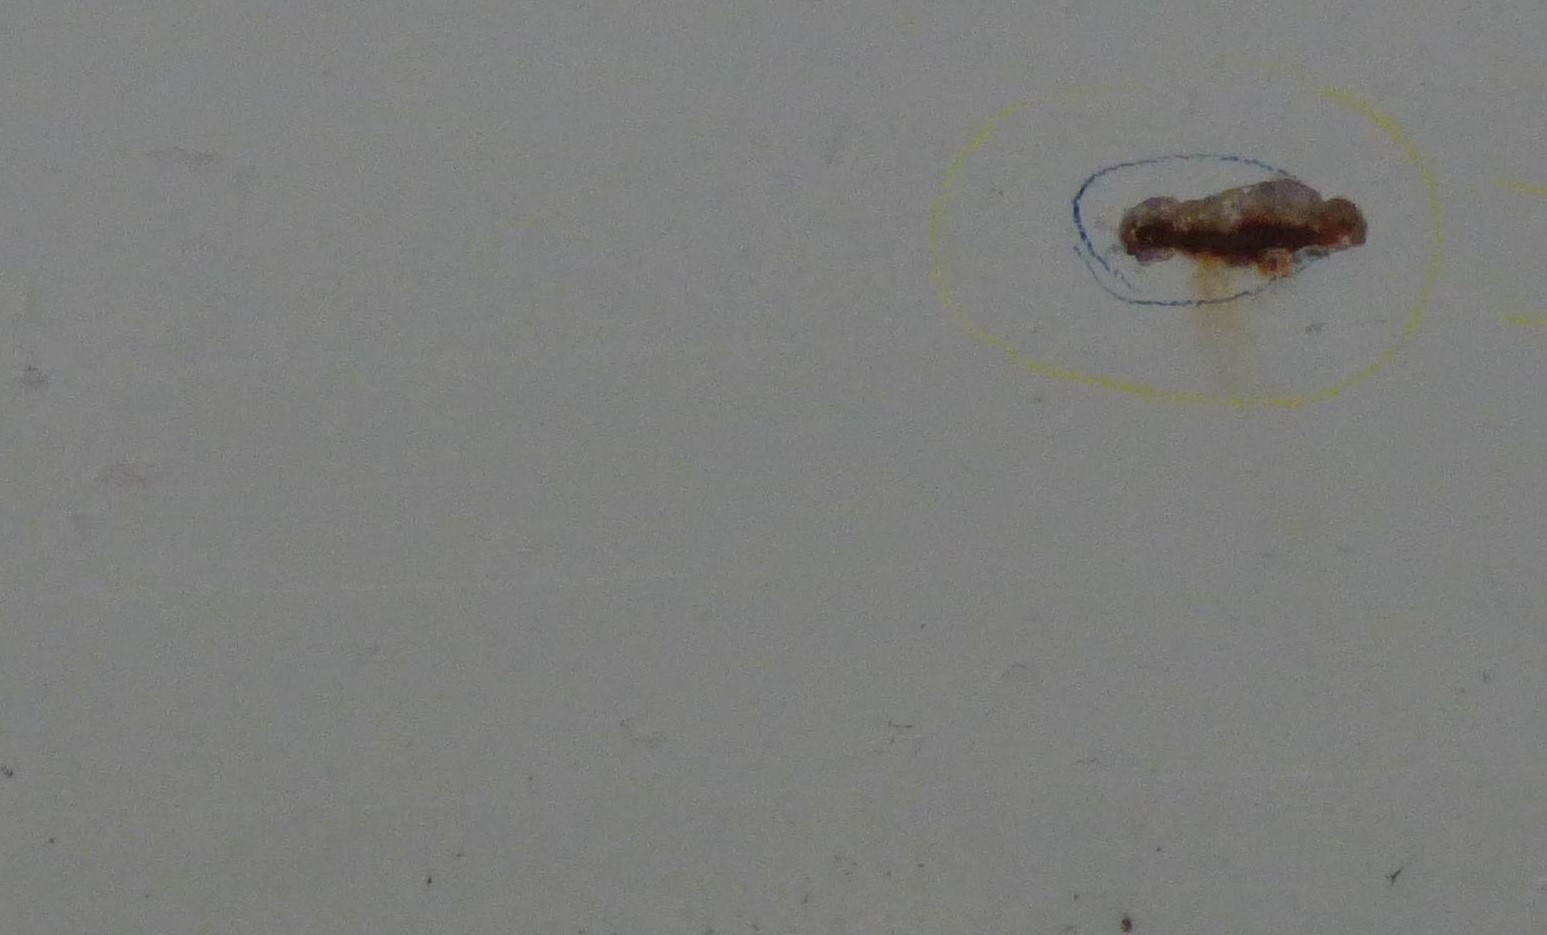Exposed reinforcement: (1136, 223, 1318, 252)
Spalling: (1117, 178, 1369, 279)
